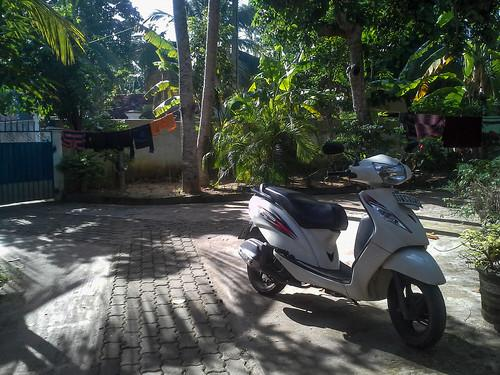motorbike: (238, 142, 446, 350)
